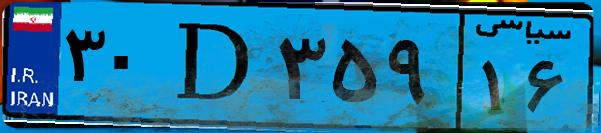0: (110, 28, 158, 98)
1: (475, 38, 525, 113)
3: (270, 28, 330, 110), (57, 26, 110, 100)
5: (330, 28, 385, 110)
6: (525, 38, 570, 115)
9: (385, 28, 445, 110)
D: (158, 12, 270, 120)
